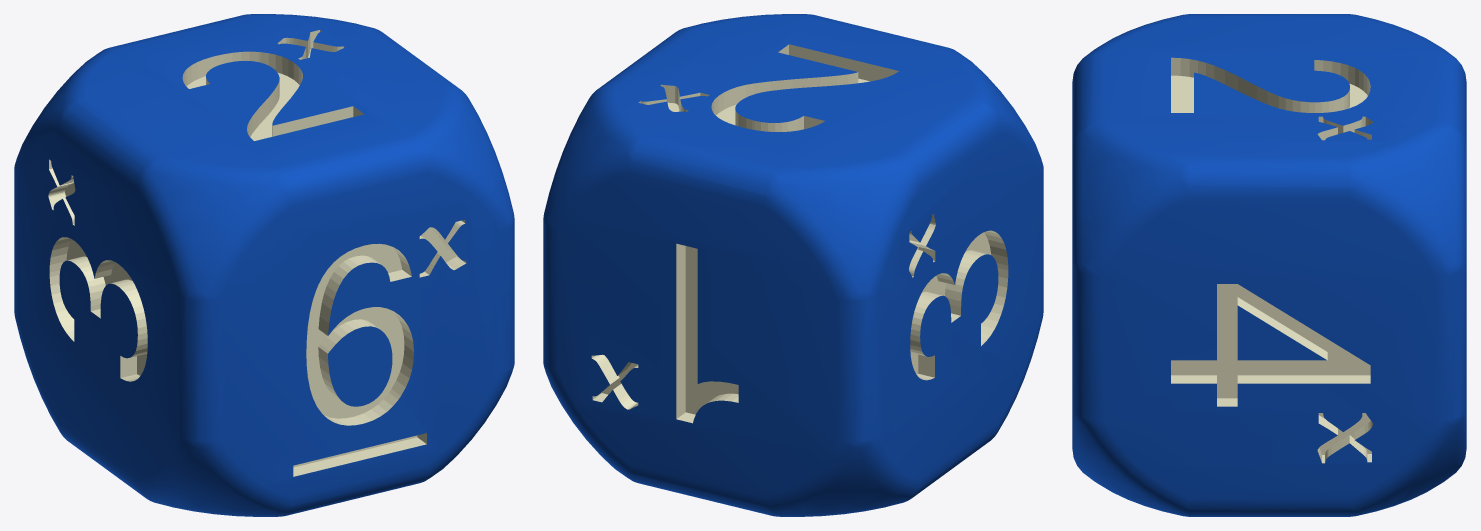
The model's file is Die X Dimension Blue.glb.
3 views of the same model, side by side, from view 1: azimuth 30°, elevation 25°; view 2: azimuth 150°, elevation 25°; view 3: azimuth 270°, elevation 25° (orthographic). The views are drawn at different scales.
Visible parts, largest first — view 1: Die_Body; view 2: Die_Body; view 3: Die_Body.
Part boxes in pixels (x1,y1,x2,y2): Die_Body: (14, 14, 514, 516); Die_Body: (543, 14, 1043, 516); Die_Body: (1072, 14, 1466, 516).
Bounding box in the file's own units: 1 × 1 × 1.
